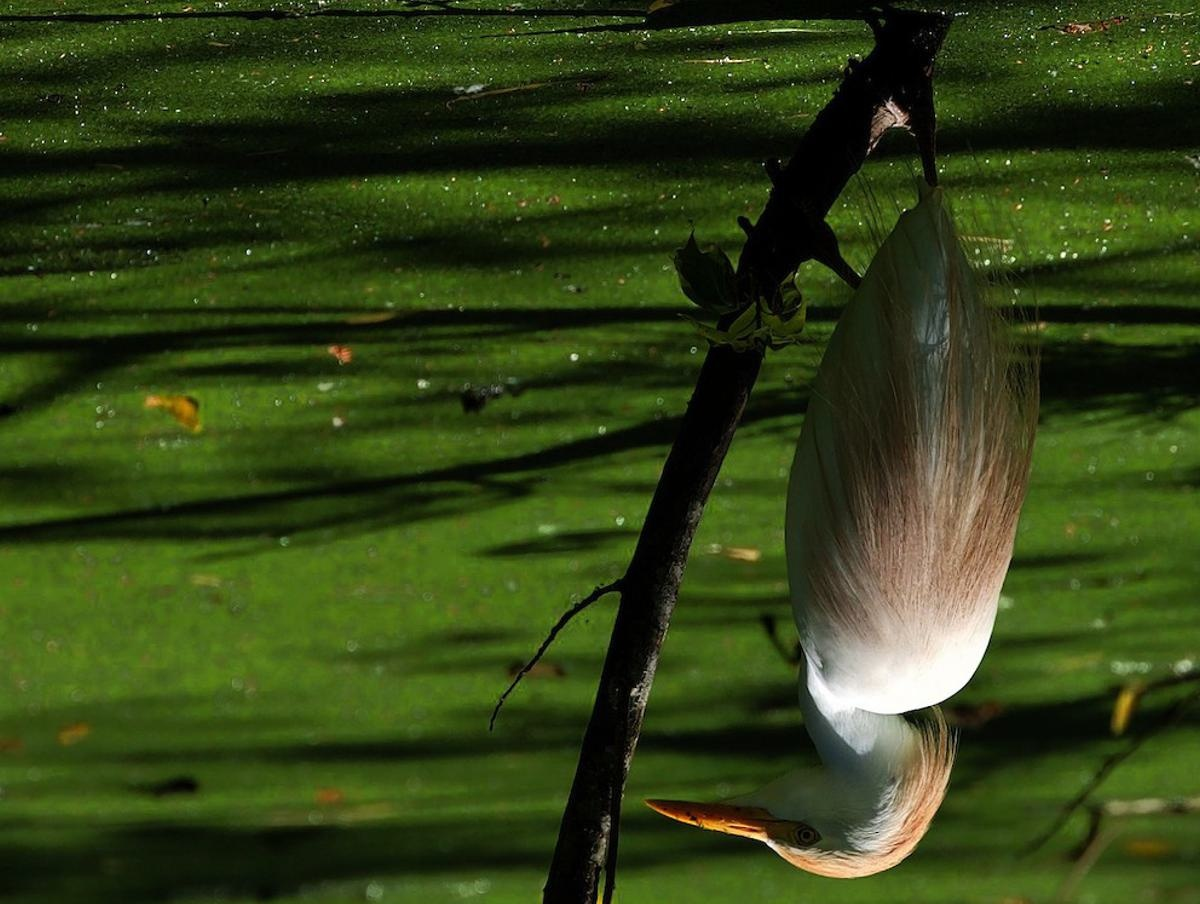egret: (675, 140, 1037, 887)
